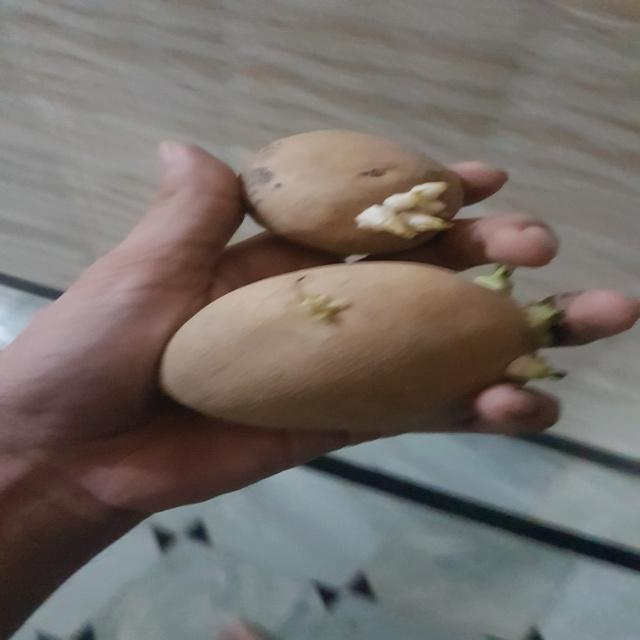potato: (149, 259, 586, 437), (219, 126, 477, 255)
